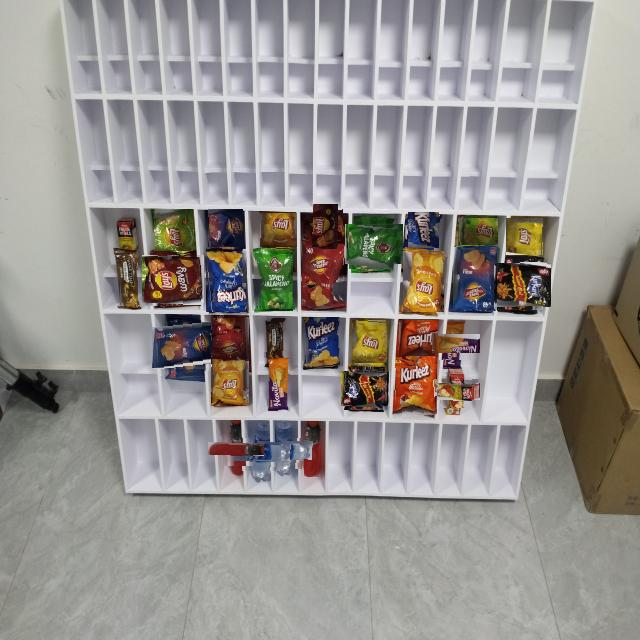Plastic: (303, 239, 347, 311), (146, 252, 201, 306), (158, 321, 212, 376), (452, 246, 497, 311), (393, 356, 437, 418), (205, 247, 246, 312), (402, 250, 444, 312), (497, 259, 547, 311), (255, 246, 293, 311), (349, 220, 398, 269), (303, 317, 340, 369), (211, 357, 249, 406), (344, 367, 387, 410), (152, 210, 194, 250), (241, 431, 281, 471), (211, 317, 249, 359), (352, 319, 387, 363), (267, 430, 305, 469), (398, 320, 438, 357), (206, 210, 244, 247), (506, 218, 544, 255), (118, 246, 138, 311), (260, 212, 297, 247), (267, 358, 290, 412), (308, 209, 343, 244), (218, 431, 253, 466), (439, 326, 473, 361), (406, 213, 440, 247), (457, 217, 498, 245), (439, 375, 472, 408), (304, 422, 322, 477), (264, 318, 286, 358), (118, 218, 136, 246)
